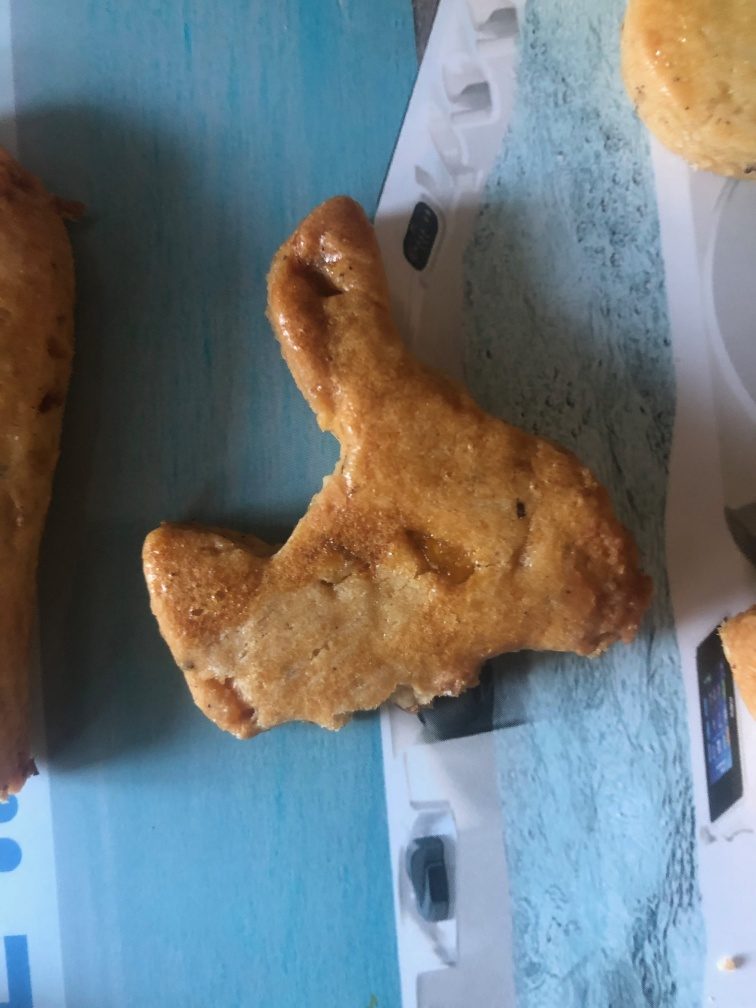squirrel: (128, 188, 648, 733)
